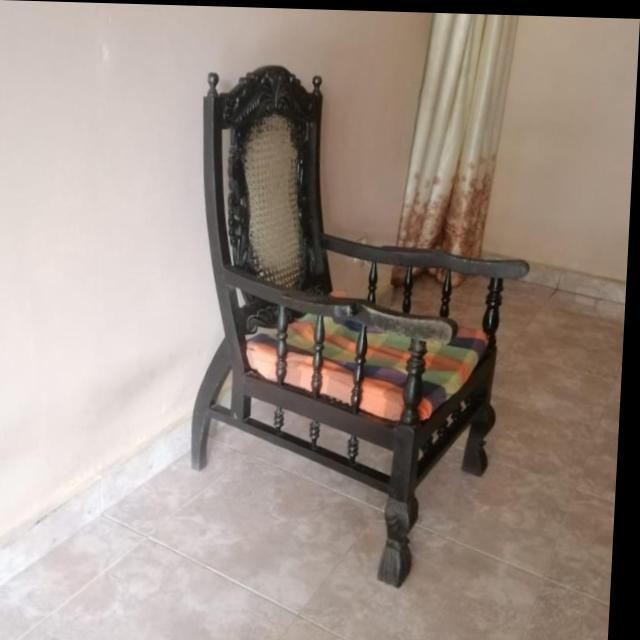Chair: (189, 63, 543, 589)
